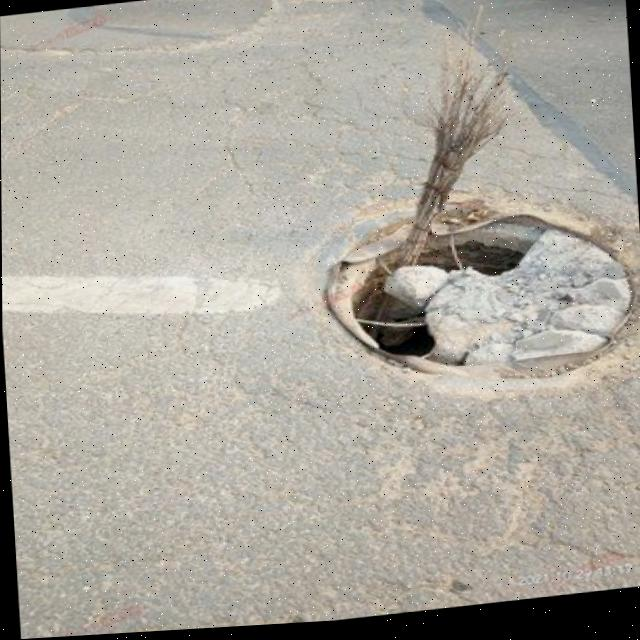manhole: (308, 186, 640, 407)
